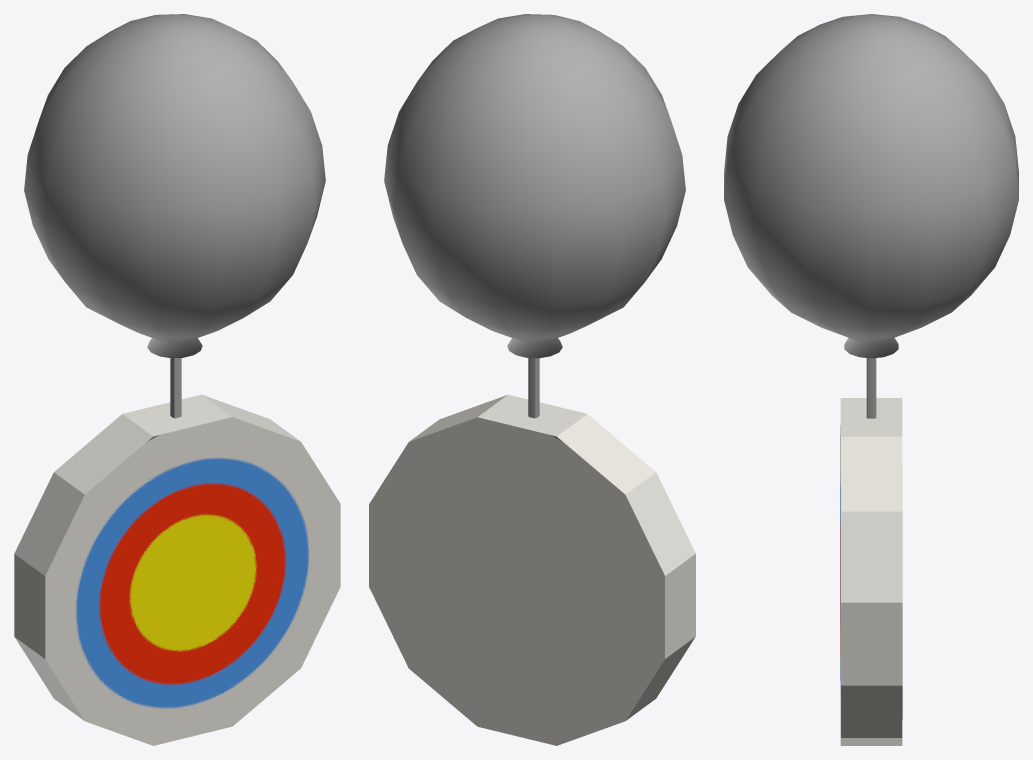
File: targetGroup.fbx
The picture shows the model from 3 angles, left to right: view 1: azimuth 30°, elevation 25°; view 2: azimuth 150°, elevation 25°; view 3: azimuth 270°, elevation 25°; orthographic projection.
Parts seen in each view (by area): view 1: targetBase, targetBalloon, targetRope; view 2: targetBase, targetBalloon, targetRope; view 3: targetBalloon, targetBase, targetRope.
Boxes of the visible parts, x1,y1,x2,y2 form: targetBase: [14, 394, 340, 745]; targetBalloon: [24, 14, 325, 358]; targetRope: [170, 358, 181, 418]; targetBase: [369, 394, 695, 745]; targetBalloon: [384, 14, 685, 358]; targetRope: [528, 358, 539, 418]; targetBalloon: [724, 14, 1018, 358]; targetBase: [840, 398, 902, 745]; targetRope: [866, 358, 876, 418].
Size of the model in its own units: 1.93 by 4.37 by 1.67.
